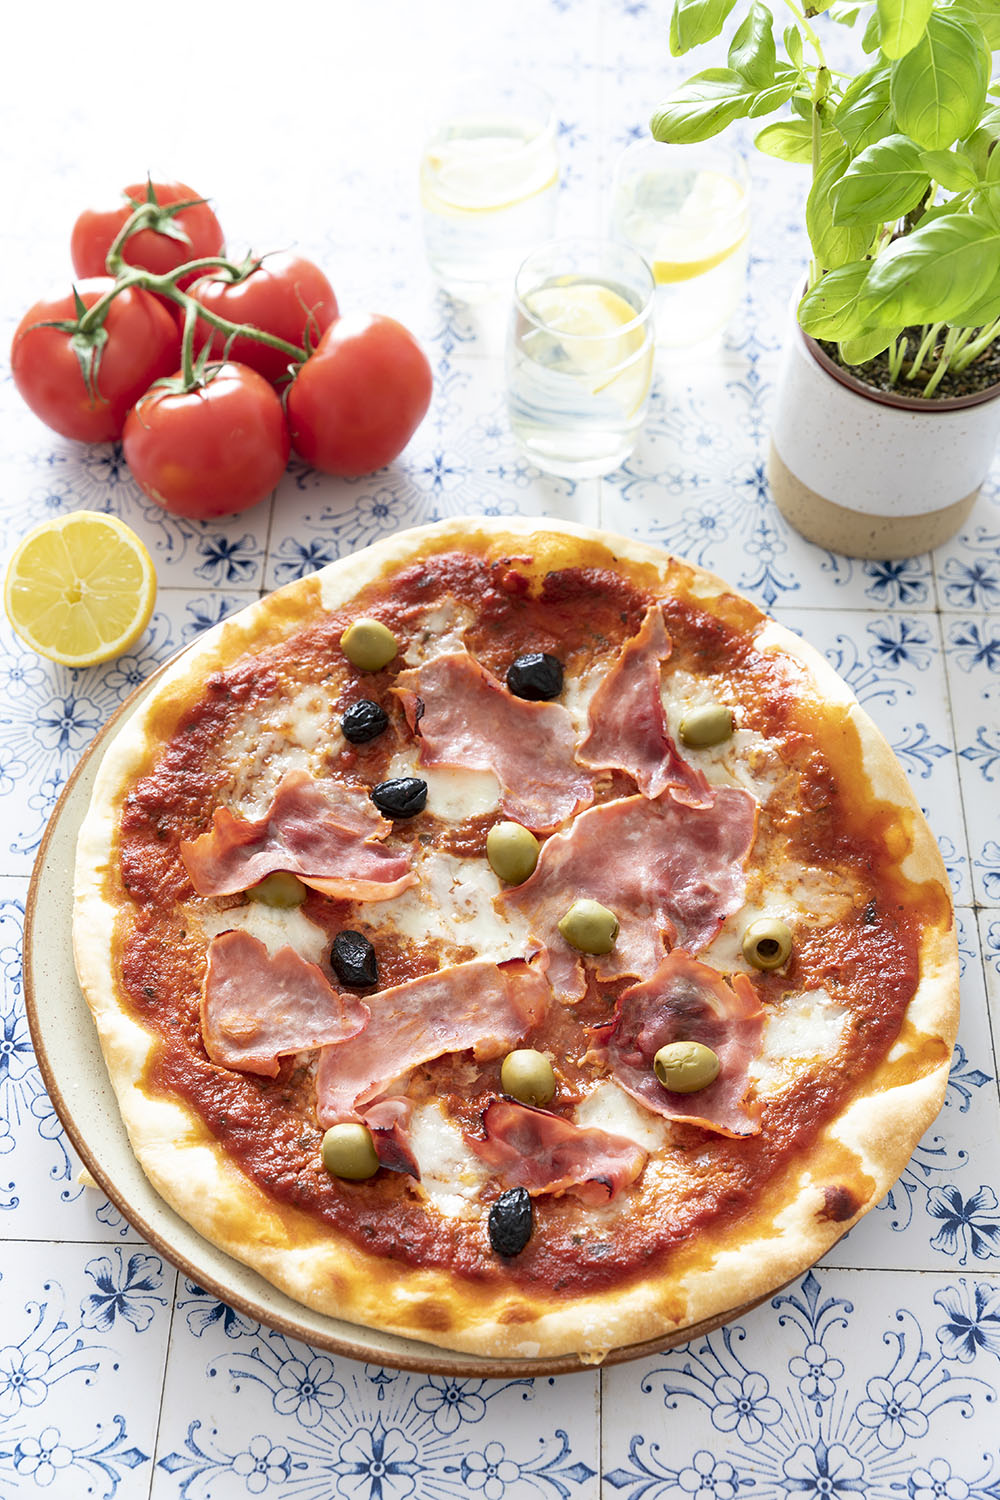Ham: (519, 769, 752, 968), (318, 945, 541, 1123), (402, 642, 581, 826), (598, 968, 758, 1144), (185, 782, 413, 896), (598, 600, 714, 815), (195, 932, 369, 1065), (483, 1114, 642, 1195)
Olives: (483, 815, 541, 888), (498, 1046, 562, 1106), (315, 1123, 383, 1180), (326, 926, 381, 992), (487, 1185, 532, 1258), (652, 1044, 718, 1093), (508, 655, 570, 706), (339, 619, 396, 669), (369, 780, 432, 824), (748, 921, 791, 975), (557, 913, 619, 949), (337, 704, 392, 742), (685, 699, 729, 744)
Pizza: (70, 519, 959, 1354)
